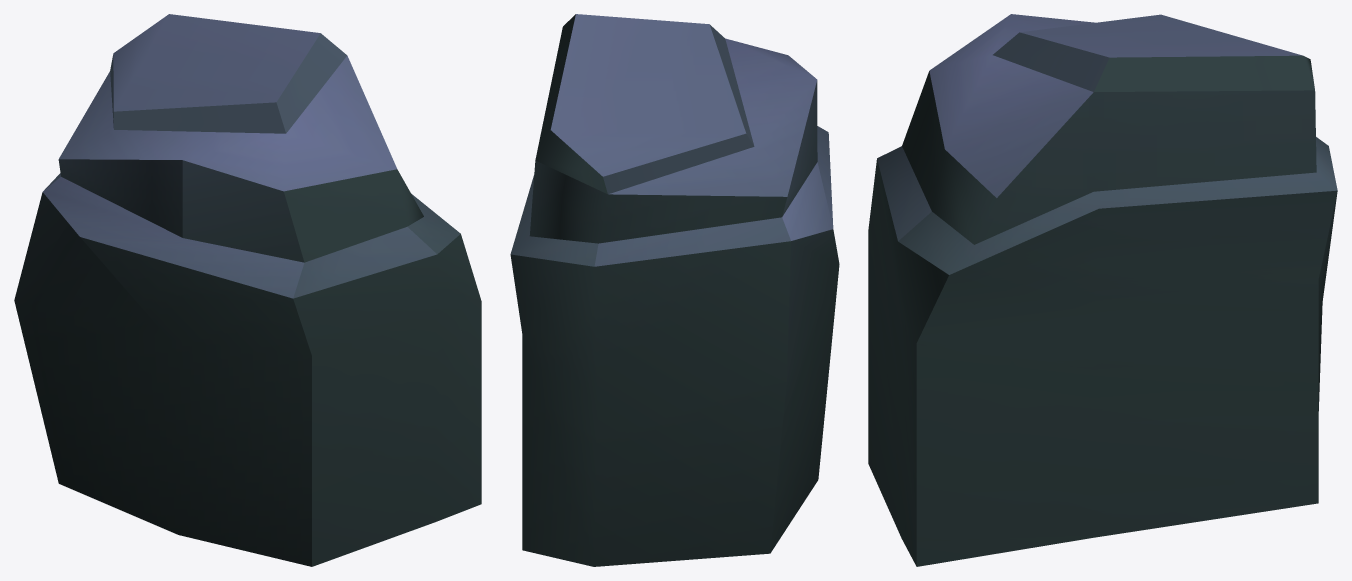
Rendered from undead_mine_stone_02.fbx.
3 renders of one model, left to right at view 1: azimuth 30°, elevation 25°; view 2: azimuth 150°, elevation 25°; view 3: azimuth 270°, elevation 25°, orthographic. The views are drawn at different scales.
Parts seen in each view (by area): view 1: undead_mine_stone_02; view 2: undead_mine_stone_02; view 3: undead_mine_stone_02.
Part boxes in pixels (box(x1,y1,x2,y2)): undead_mine_stone_02: box(14, 14, 481, 566); undead_mine_stone_02: box(510, 14, 839, 566); undead_mine_stone_02: box(868, 14, 1337, 566).
Bounding box in the file's own units: 3.62 × 4.51 × 4.08.
